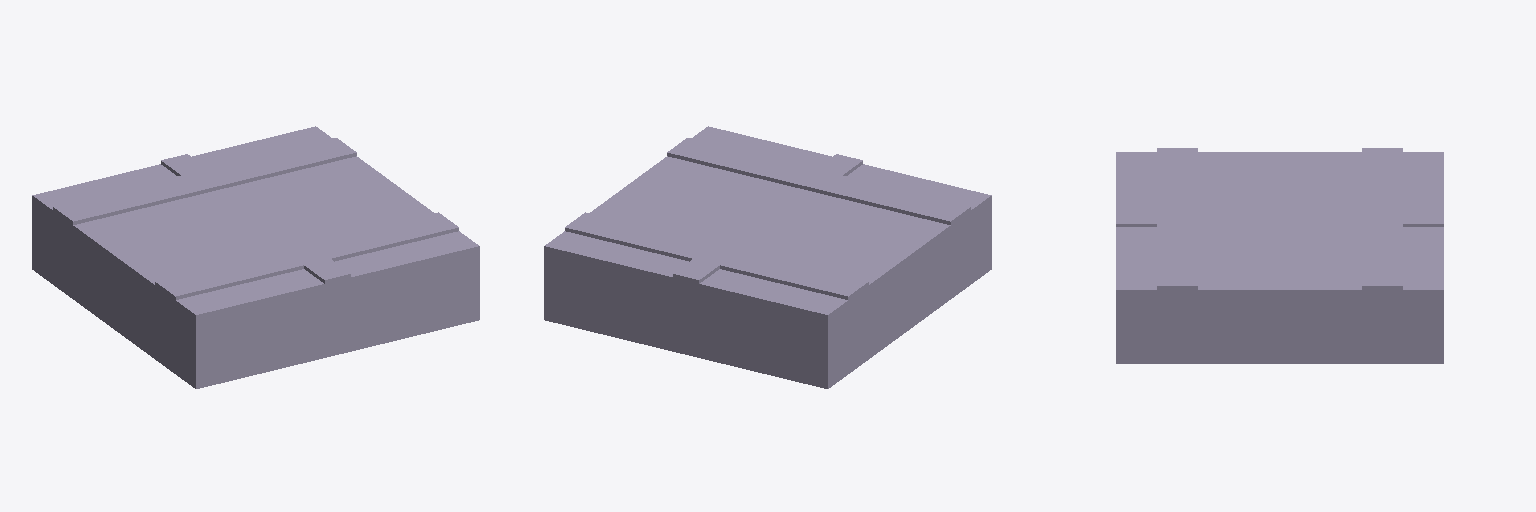
The model's file is road-straight-house2.obj.
3 renders of one model, left to right at view 1: azimuth 30°, elevation 25°; view 2: azimuth 150°, elevation 25°; view 3: azimuth 270°, elevation 25°, orthographic.
Visible parts, largest first — view 1: road-straight-house-2-low_Cube.011; view 2: road-straight-house-2-low_Cube.011; view 3: road-straight-house-2-low_Cube.011.
Part boxes in pixels (x1,y1,x2,y2): road-straight-house-2-low_Cube.011: (32, 126, 479, 388); road-straight-house-2-low_Cube.011: (544, 126, 991, 388); road-straight-house-2-low_Cube.011: (1116, 148, 1443, 363).
Bounding box in the file's own units: 8 × 2.1 × 8.